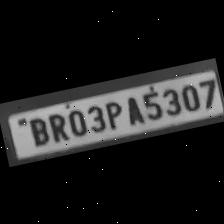0: (61, 105, 88, 139), (175, 80, 202, 114)
3: (158, 82, 183, 116), (83, 100, 107, 134)
5: (138, 85, 164, 122)
7: (195, 75, 221, 110)
A: (120, 92, 144, 128)
B: (22, 113, 51, 148)
P: (100, 96, 127, 131)
R: (43, 109, 70, 143)
